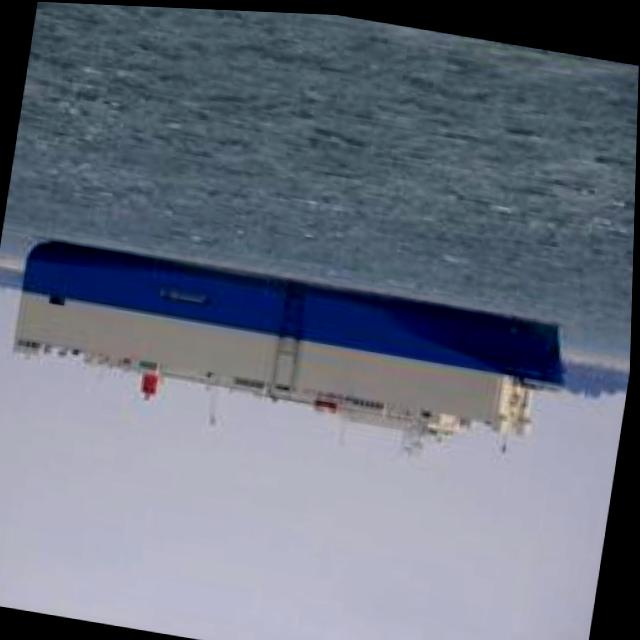ship2: (9, 239, 567, 459)
